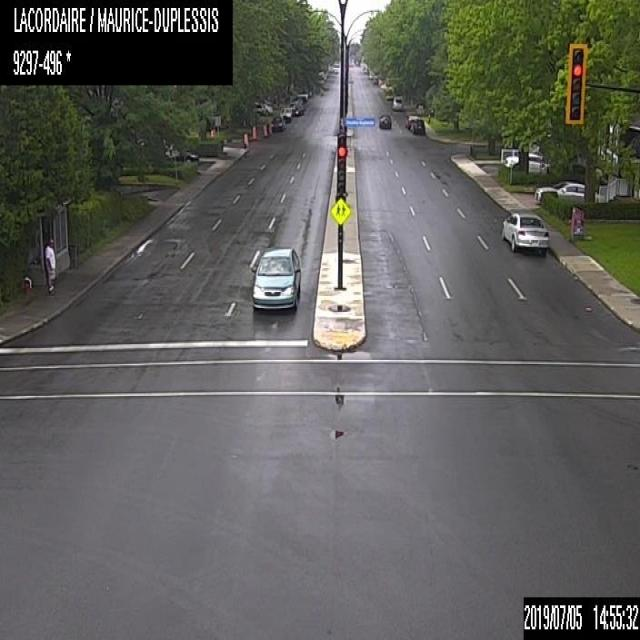construction: (261, 120, 267, 139), (241, 131, 247, 148), (251, 123, 256, 140)
pedestrian: (43, 237, 55, 295)
vehicle: (250, 244, 301, 308), (499, 211, 549, 253), (534, 180, 598, 204), (503, 151, 550, 172), (404, 113, 424, 135), (171, 148, 198, 164), (377, 112, 391, 128), (390, 94, 404, 110), (289, 98, 303, 113), (279, 106, 293, 120), (269, 115, 283, 129), (260, 100, 272, 115), (252, 101, 264, 114), (384, 85, 394, 98), (332, 63, 338, 73), (372, 75, 378, 85), (368, 70, 374, 78)
